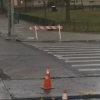Crosswalk: (31, 39, 100, 77)
